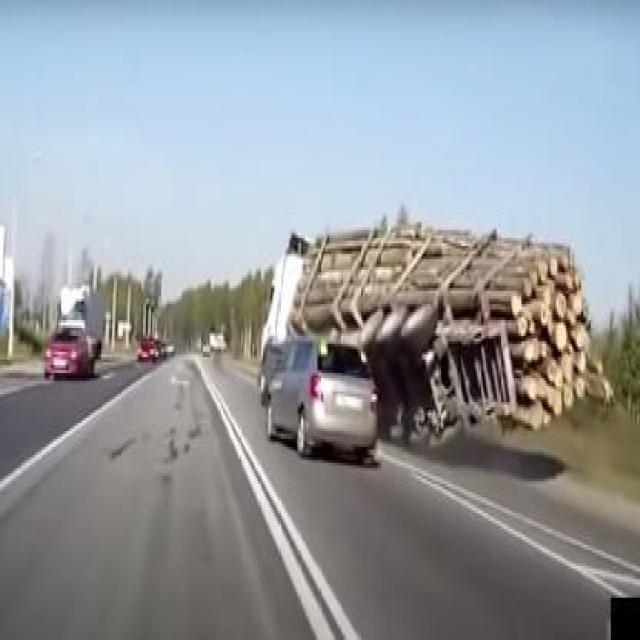accident: (240, 212, 602, 468)
